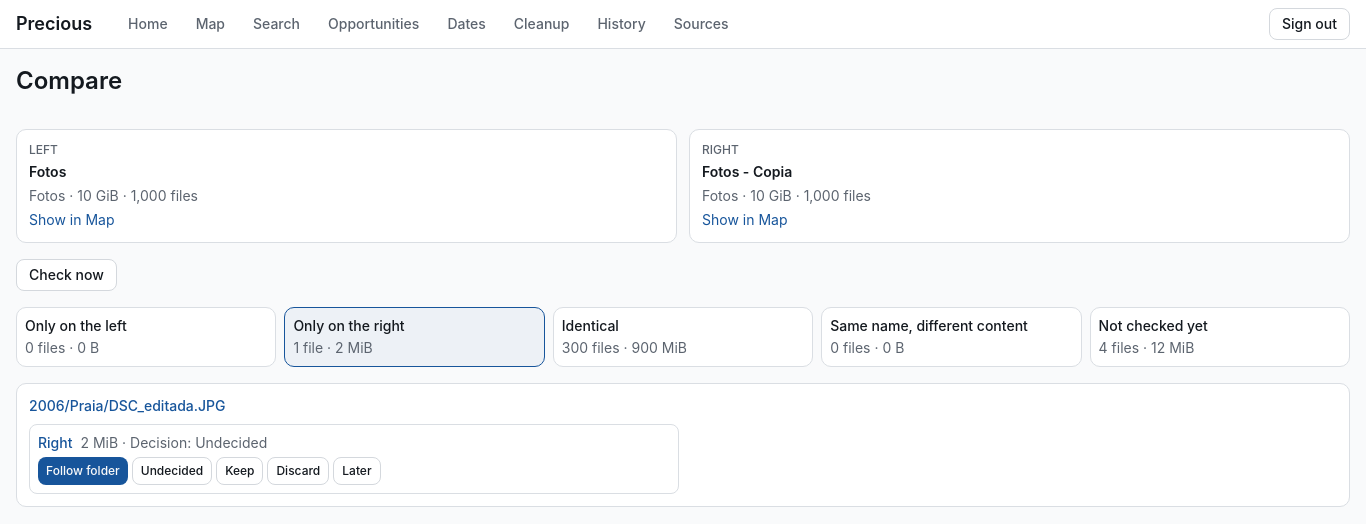
it: Compare › opens on the first group with files, and keeps its sides and group in the address
The width and height of the screenshot is (1366, 524).
Expected: the link "2006/Praia/DSC_editada.JPG" is shown, [29, 397, 226, 414]
Expected: the text "Fotos" is shown, [29, 163, 66, 180]
Click the link "Only on the left 0 files · 0 B" at (76, 326), box [16, 307, 276, 367]
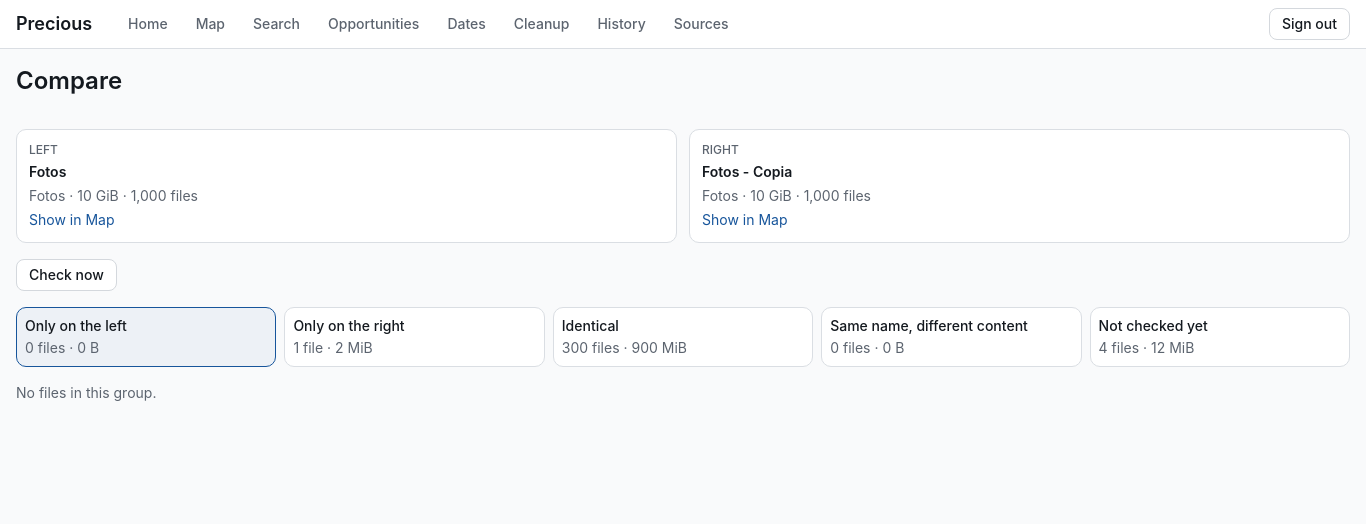
Expected: the text "No files in this group." is shown, [16, 384, 156, 401]
